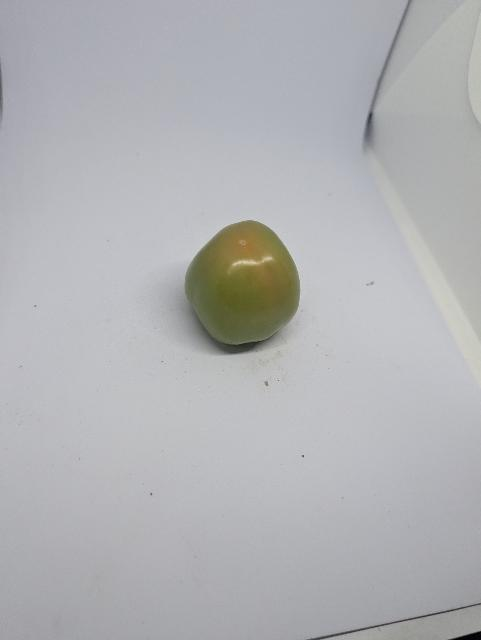breaker: (182, 216, 306, 354)
